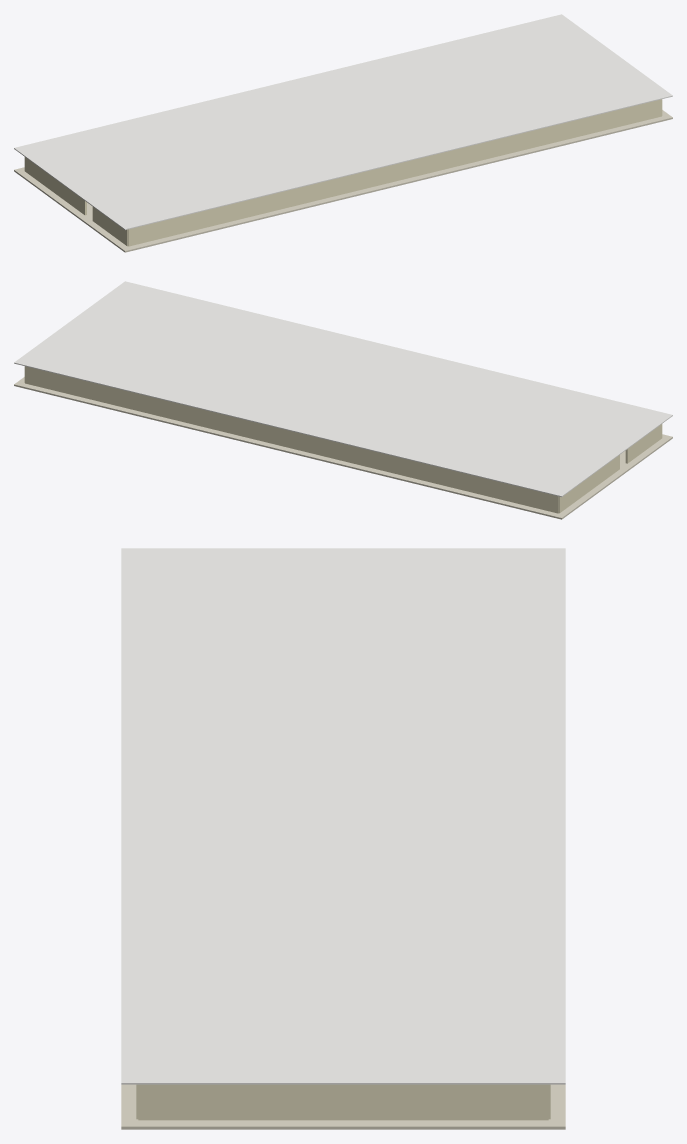
Rendered from Maze_Architecture.fbx.
3 renders of one model, top to bottom at view 1: azimuth 30°, elevation 25°; view 2: azimuth 150°, elevation 25°; view 3: azimuth 270°, elevation 25°, orthographic. The views are drawn at different scales.
Visible parts, largest first — view 1: Ceiling, Walls, Floor; view 2: Ceiling, Walls, Floor; view 3: Ceiling, Walls, Floor.
Boxes of the visible parts, <box> form: Ceiling: <box>14,14,672,229</box>; Walls: <box>24,99,662,246</box>; Floor: <box>14,110,672,252</box>; Ceiling: <box>14,281,672,496</box>; Walls: <box>24,366,662,513</box>; Floor: <box>14,377,672,519</box>; Ceiling: <box>121,548,565,1084</box>; Walls: <box>136,1084,550,1120</box>; Floor: <box>121,1084,565,1129</box>.
Bounding box in the file's own units: 74 × 3.02 × 26.
